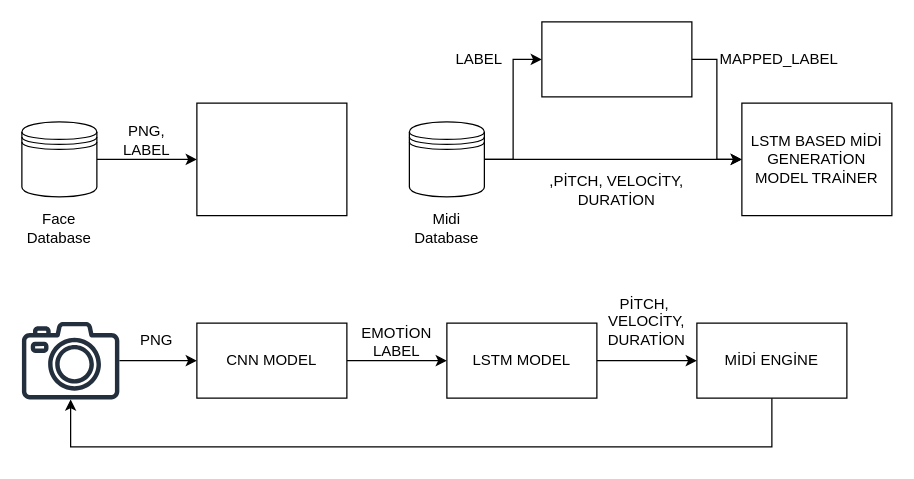
The diagram is 914 pixels wide and 479 high, and some of its shapes have lost their labels. The box of each missing label's shape, as (x1, y1, x2, y2) in pixels:
CNN BASED EMOTİON CLASSİFİCATİON TRAİNER: (196, 102, 347, 216)
LABEL MAP: (541, 21, 692, 97)
